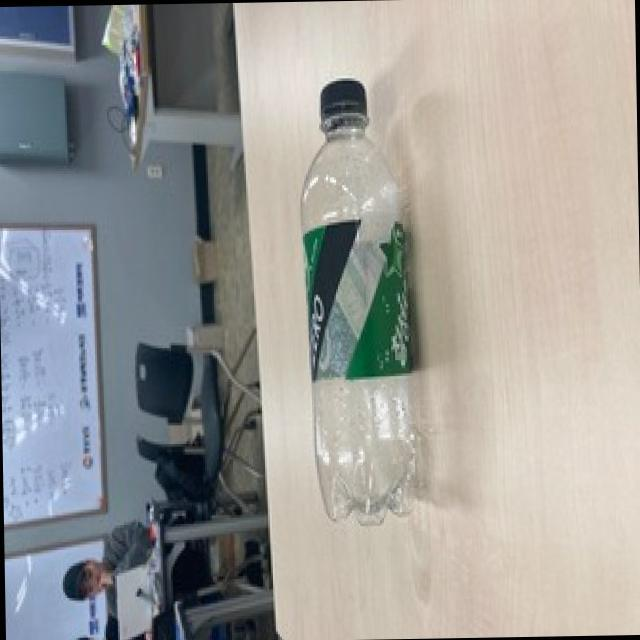good: (292, 72, 429, 530)
